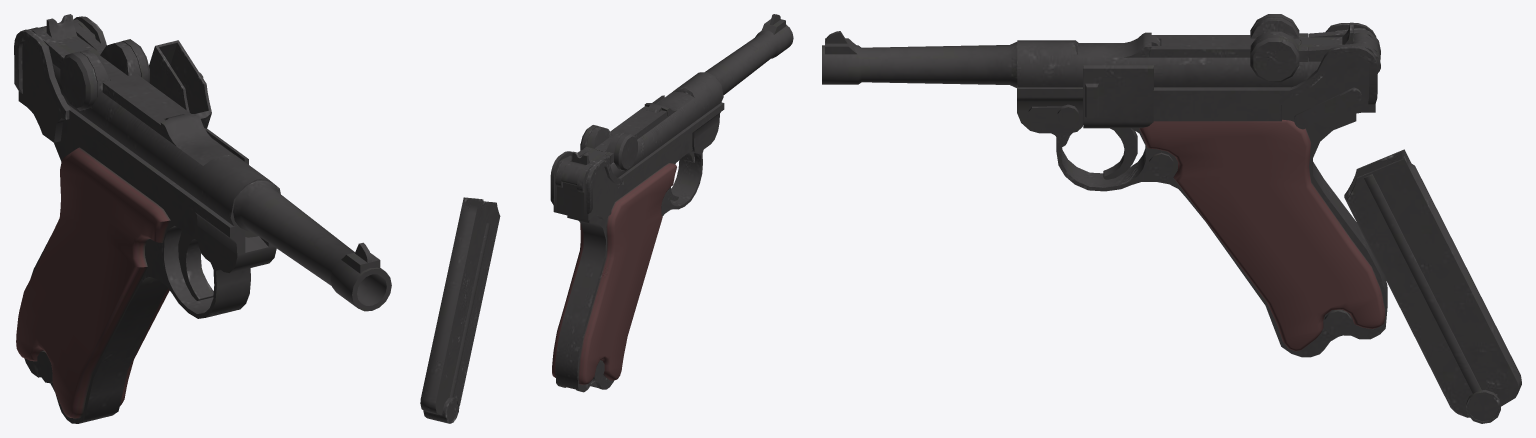
File: cc0-guns-explosives-pack-glb--luger.glb
3 views of the same model, side by side, from view 1: azimuth 30°, elevation 25°; view 2: azimuth 150°, elevation 25°; view 3: azimuth 270°, elevation 25° (orthographic). The views are drawn at different scales.
Parts seen in each view (by area): view 1: Body, Barrel, Slide, Part3, Clip, Part2, Part1, Trigger; view 2: Body, Clip, Slide, Barrel, Part3, Part2, Part1; view 3: Body, Clip, Barrel, Slide, Part3, Part2, Part1, Trigger.
Part boxes in pixels (x1,y1,x2,y2): Body: (14,16,276,423); Barrel: (233,180,391,311); Slide: (52,63,280,237); Part3: (39,14,149,110); Clip: (149,40,211,128); Part2: (96,55,190,135); Part1: (160,114,233,165); Trigger: (178,230,213,300); Body: (550,95,724,392); Clip: (420,197,500,423); Slide: (610,72,723,177); Barrel: (705,14,793,95); Part3: (561,125,637,185); Part2: (594,106,667,151); Part1: (644,92,693,116); Body: (1017,23,1387,357); Clip: (1344,149,1521,423); Barrel: (822,31,1017,87); Slide: (1017,40,1320,87); Part3: (1250,14,1380,82); Part2: (1149,35,1301,57); Part1: (1077,32,1160,57); Trigger: (1061,128,1137,179).
Bounding box in the file's own units: 0.0772 × 0.1546 × 0.2938.
1 material, 1 textured.
